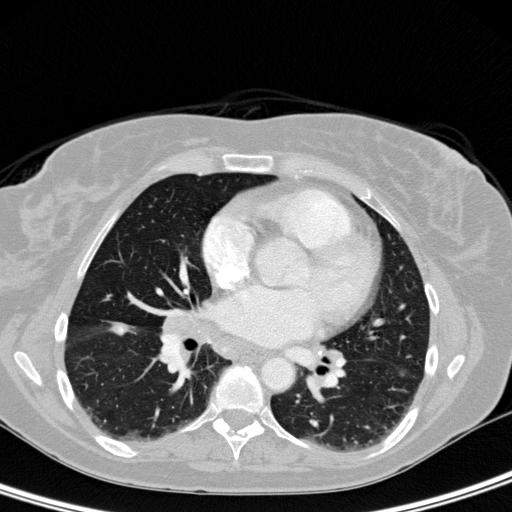nodule: (110, 319, 130, 339)
